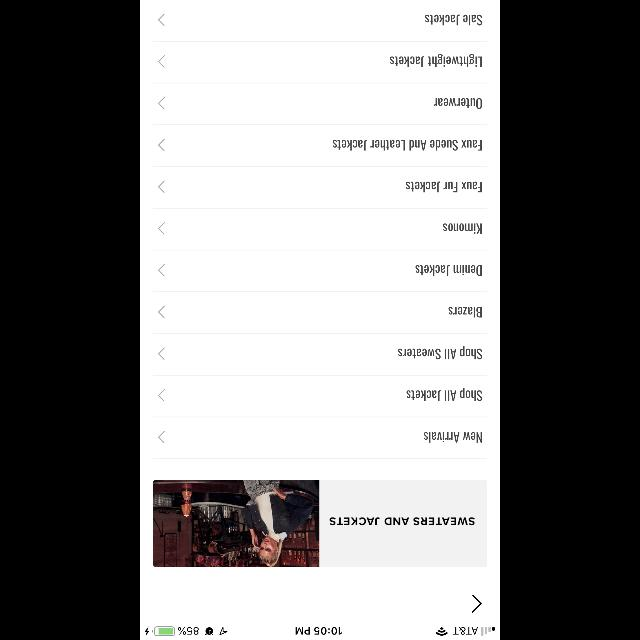icon: (472, 594, 482, 612), (158, 14, 165, 26), (158, 55, 165, 67), (158, 97, 165, 109), (158, 139, 165, 151), (158, 181, 165, 193), (158, 222, 165, 234), (158, 264, 165, 276), (158, 306, 165, 318), (158, 348, 165, 360), (158, 389, 165, 401), (158, 431, 165, 443)
image: (153, 479, 319, 566)
text: (332, 140, 482, 150), (390, 54, 482, 68), (330, 517, 474, 525), (398, 346, 482, 359), (406, 388, 482, 400), (416, 264, 482, 276), (406, 182, 482, 192), (424, 14, 482, 26), (423, 432, 481, 442), (434, 98, 482, 110), (442, 223, 482, 234), (448, 306, 482, 318)
uppertaskbar: (140, 626, 500, 640)
